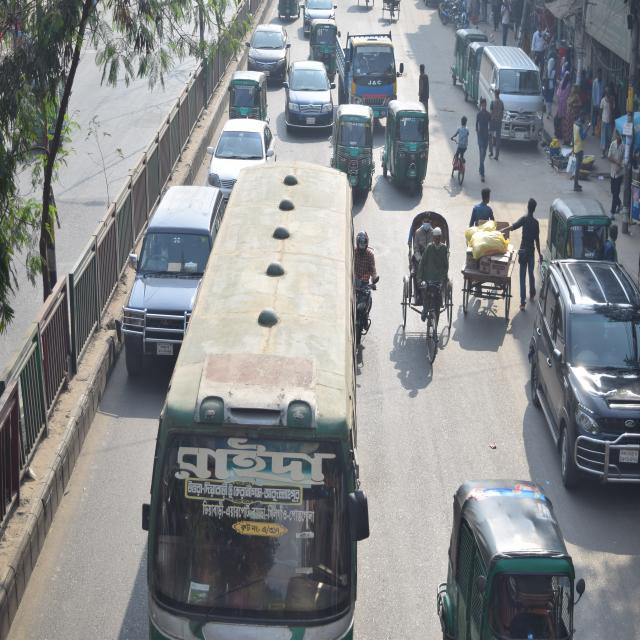bus: (140, 158, 355, 640)
car: (527, 262, 640, 483), (115, 180, 220, 379), (207, 113, 274, 192), (286, 61, 332, 138), (245, 20, 288, 79)
microbus: (474, 42, 546, 155)
motorbike: (351, 235, 382, 362)
pickup-van: (338, 20, 396, 123)
